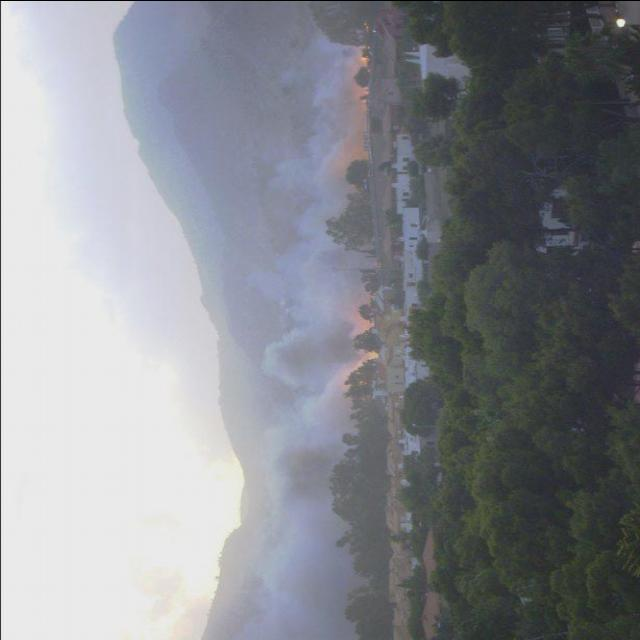Fire: (362, 348, 378, 362), (356, 51, 368, 69)
